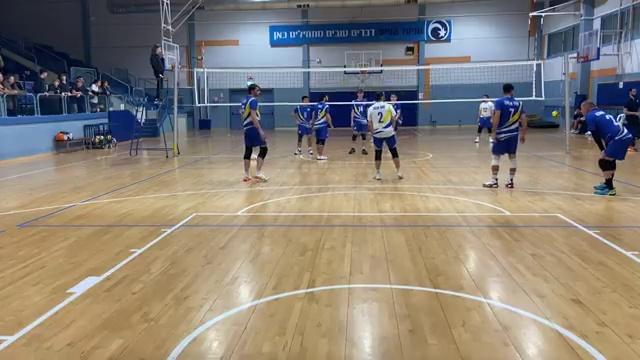ball: (551, 107, 561, 120)
